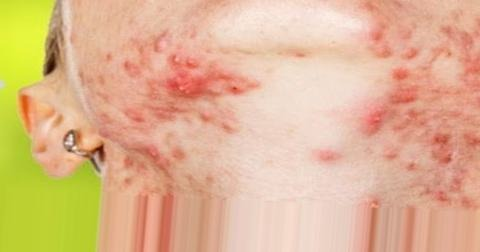Acne: (73, 44, 478, 181)
